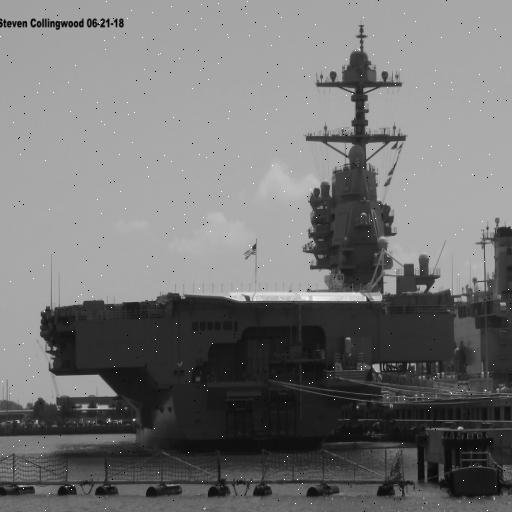Portanaves: (33, 20, 461, 459)
